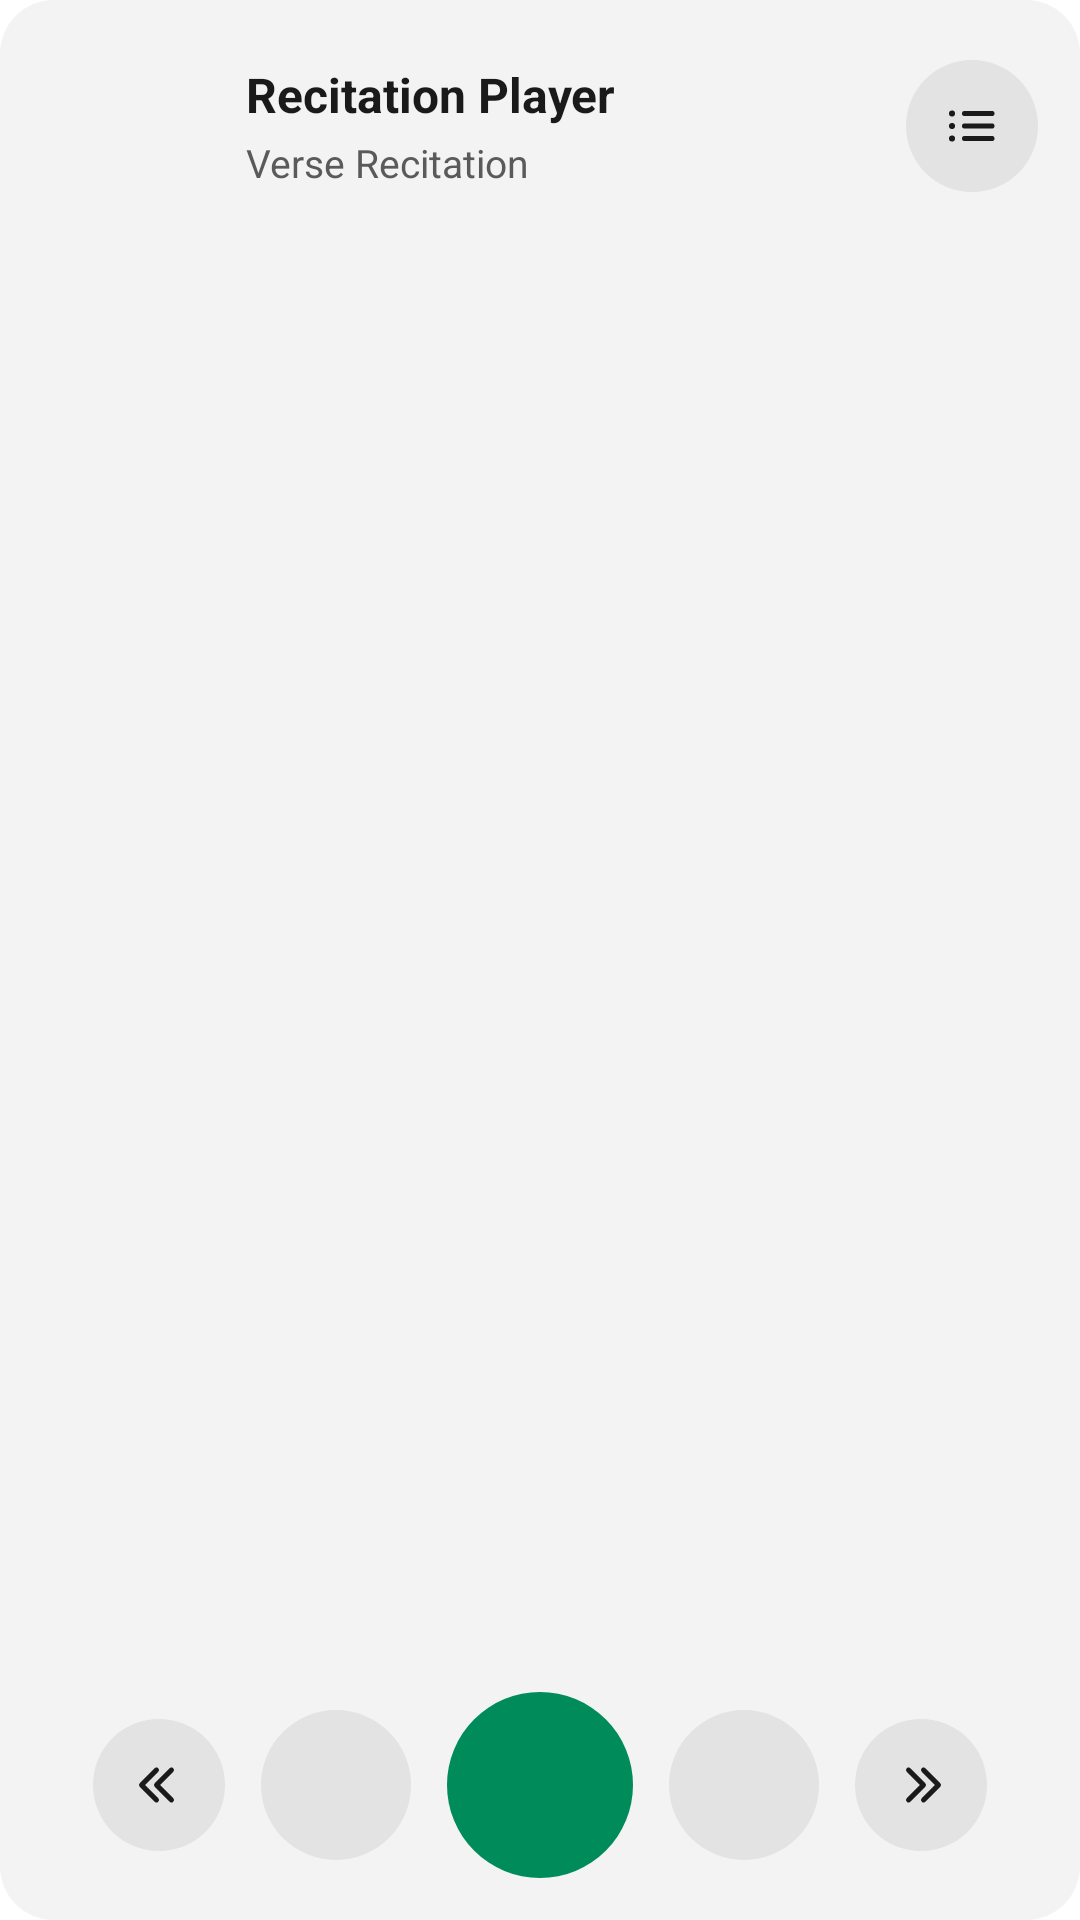

Where to tap for icons on this 1080x1920 app screen, as (x,y):
Next chapter: (921,1785)
Previous chapter: (159,1785)
Select Surah: (972,126)
